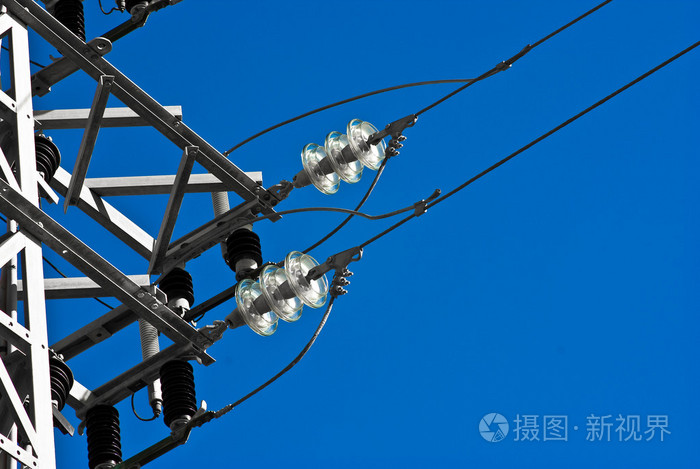insulator: (235, 249, 324, 338), (305, 116, 387, 192)
